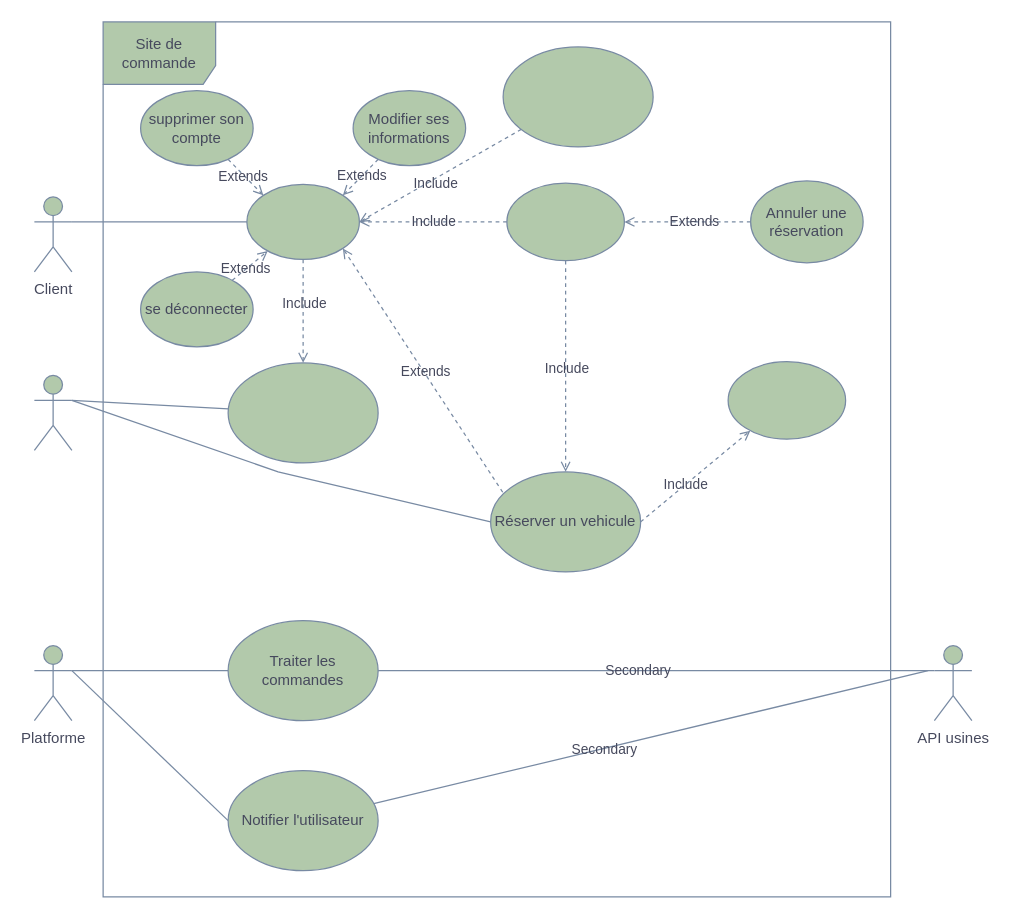
Some shapes in this 1010 by 919 pixel diagram are drawn without their labels. The shapes that lost their labels are listed below. From the top down, each one's centre as x and y in pixels, then its label:
At (577,96): "Consulter ses réservations".
At (302,221): "se connecter".
At (565,221): "Payer la réservation".
At (52,412): "Visiteur".
At (302,412): "Créer un compte".
At (786,399): "Personnaliser le véhicule".
